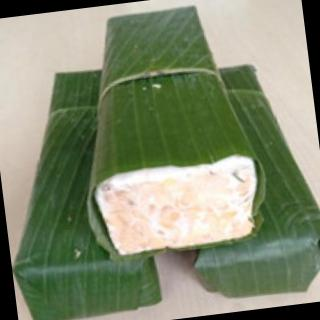Tempe: (65, 1, 271, 269)
